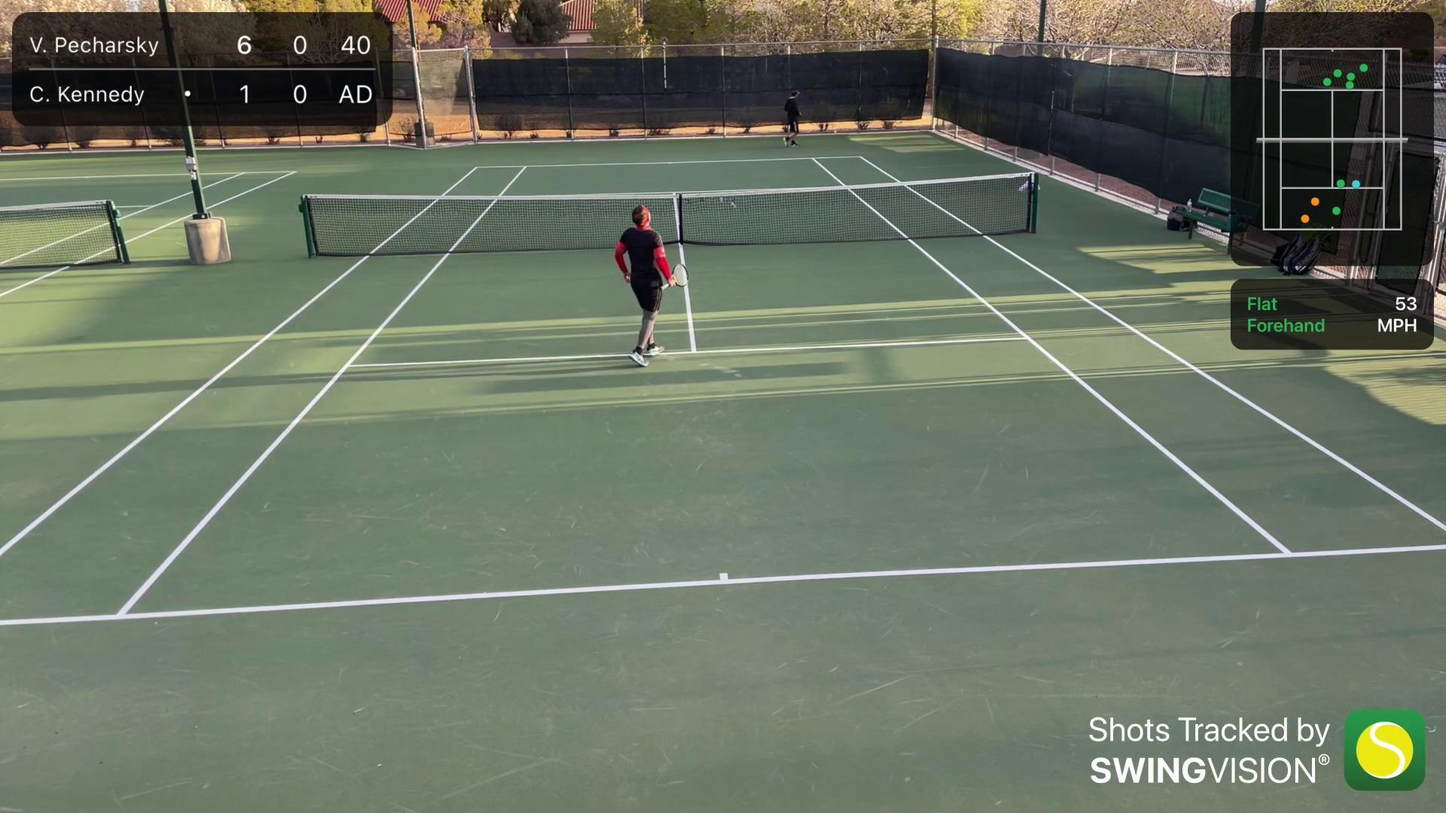ball: (832, 129, 839, 136)
